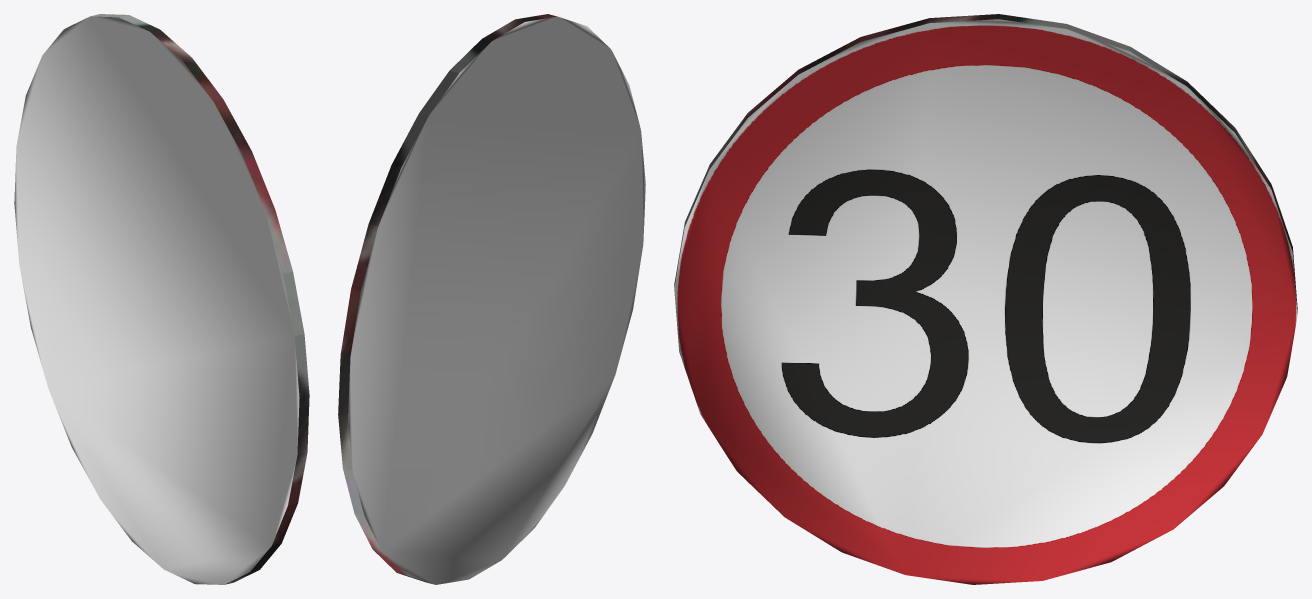
3 views of the same model, side by side, from view 1: azimuth 30°, elevation 25°; view 2: azimuth 150°, elevation 25°; view 3: azimuth 270°, elevation 25° (orthographic). The views are drawn at different scales.
Visible parts, largest first — view 1: model05; view 2: model05; view 3: model05.
Boxes of the visible parts, x1,y1,x2,y2 form: model05: (14, 14, 309, 584); model05: (338, 14, 645, 584); model05: (674, 14, 1297, 584).
Size of the model in its own units: 0.0396 by 1.19 by 1.19.
3 materials, 3 textured.
